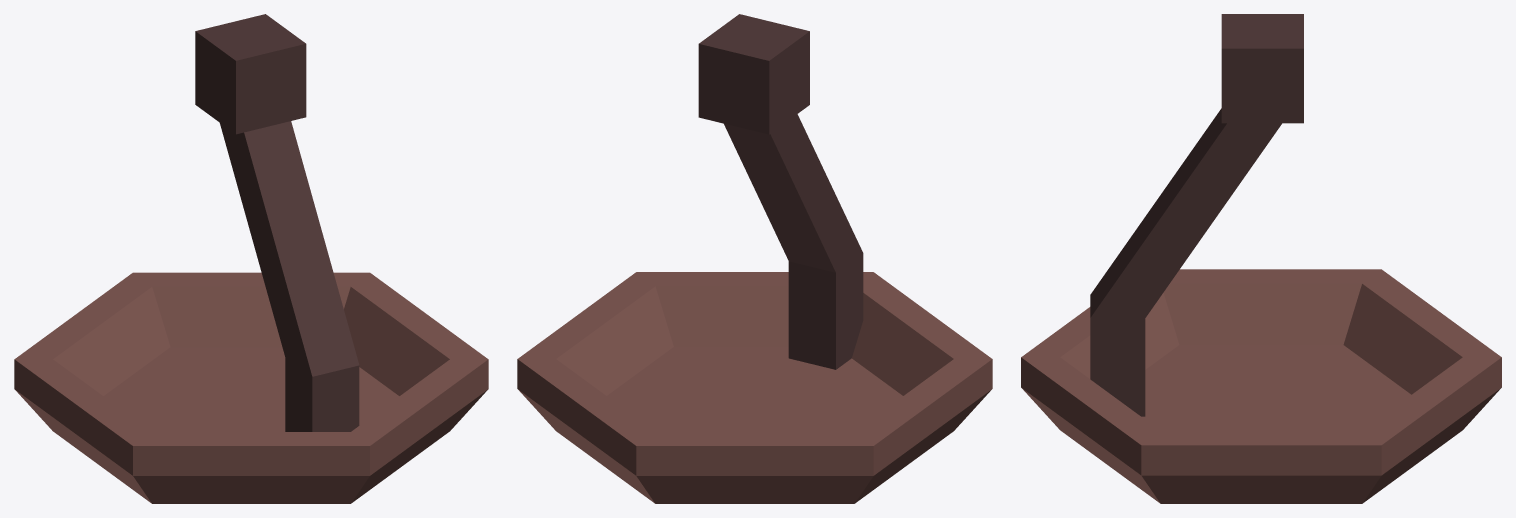
Rendered from RustedMetalMechSmallMovingPlatform1.fbx.
3 views of the same model, side by side, from view 1: azimuth 30°, elevation 25°; view 2: azimuth 150°, elevation 25°; view 3: azimuth 270°, elevation 25° (orthographic).
Visible parts, largest first — view 1: RustedMetalMechSmallMovingPlatform1; view 2: RustedMetalMechSmallMovingPlatform1; view 3: RustedMetalMechSmallMovingPlatform1.
Part boxes in pixels (x1,y1,x2,y2): RustedMetalMechSmallMovingPlatform1: (14, 14, 488, 503); RustedMetalMechSmallMovingPlatform1: (517, 14, 992, 503); RustedMetalMechSmallMovingPlatform1: (1021, 14, 1501, 503).
Size of the model in its own units: 404 by 428 by 467.
